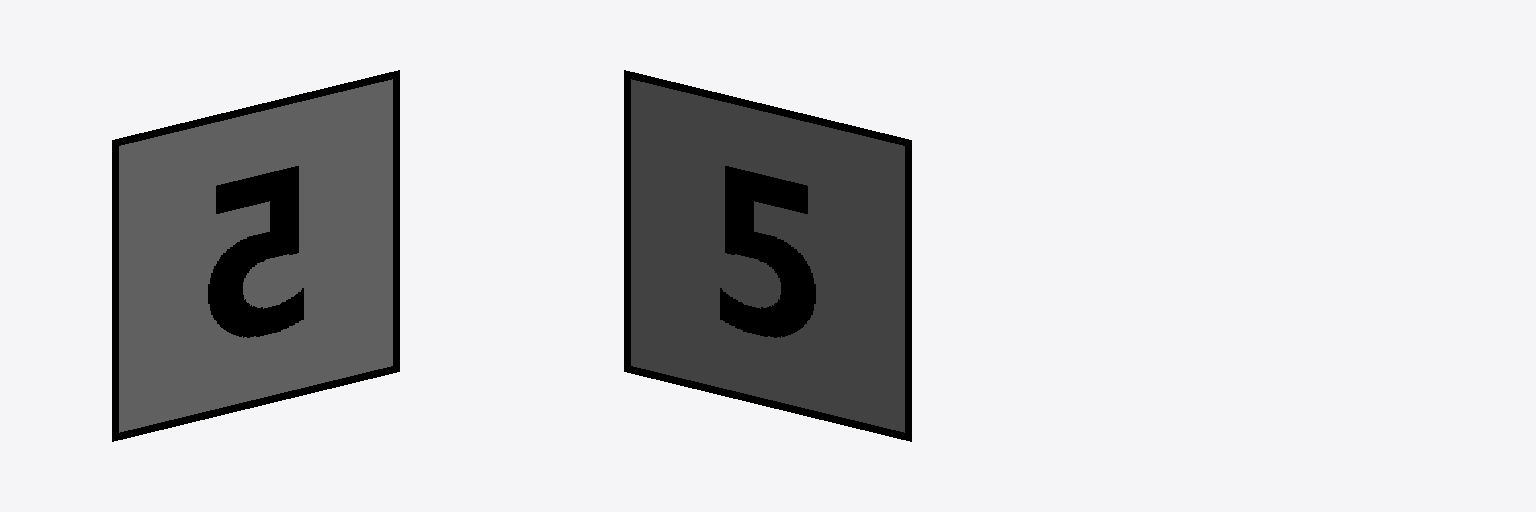
3 views of the same model, side by side, from view 1: azimuth 30°, elevation 25°; view 2: azimuth 150°, elevation 25°; view 3: azimuth 270°, elevation 25° (orthographic).
Visible parts, largest first — view 1: 平面.001; view 2: 平面.001; view 3: none.
Boxes of the visible parts, x1,y1,x2,y2 form: 平面.001: [112, 70, 399, 441]; 平面.001: [624, 70, 911, 441].
Size of the model in its own units: 2 by 2 by 0.
Materials: 1 (1 with a texture image).